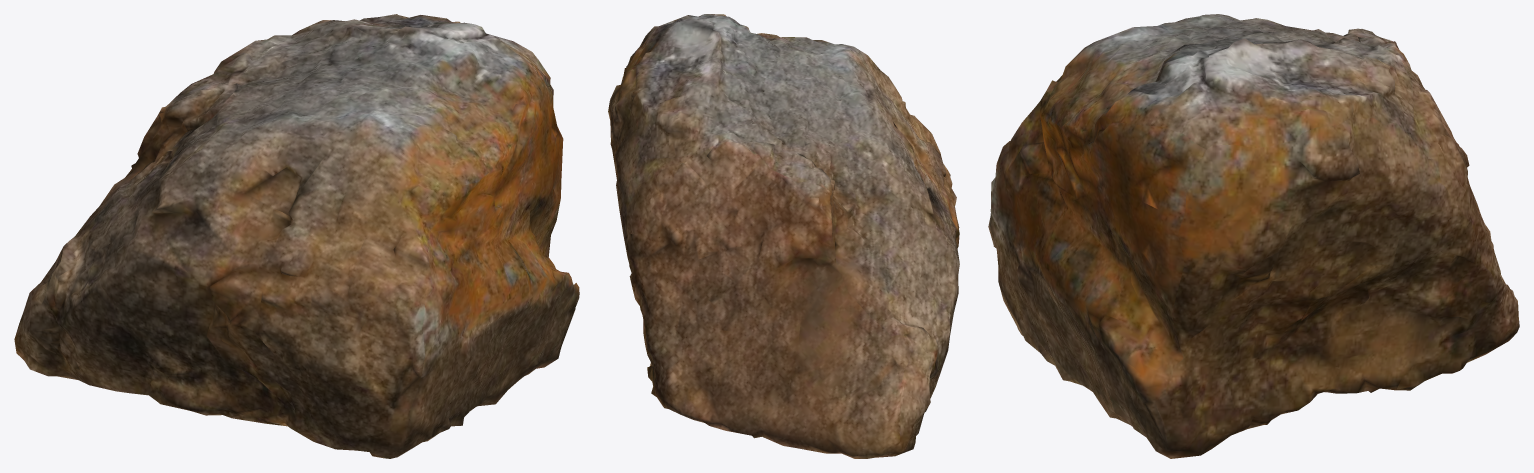
The model's file is namaqualand_boulder_04.glb.
3 renders of one model, left to right at view 1: azimuth 30°, elevation 25°; view 2: azimuth 150°, elevation 25°; view 3: azimuth 270°, elevation 25°, orthographic. The views are drawn at different scales.
Parts seen in each view (by area): view 1: boulder_04; view 2: boulder_04; view 3: boulder_04.
Boxes of the visible parts, box(x1,y1,x2,y2) form: boulder_04: box(14, 14, 579, 458); boulder_04: box(608, 14, 959, 458); boulder_04: box(988, 14, 1519, 458).
Size of the model in its own units: 2.52 by 1.9 by 2.49.
1 material, 1 textured.
